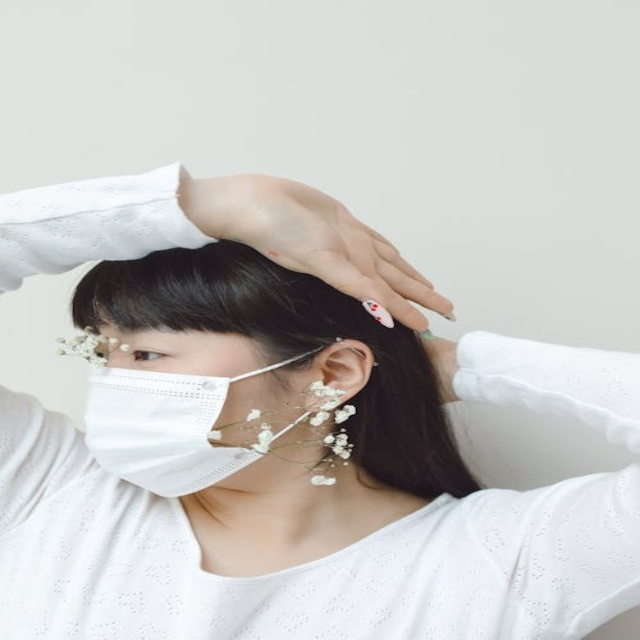Mascara: (84, 346, 327, 497)
Sin_gafas: (123, 330, 244, 373)
Sin_guantes: (184, 171, 456, 331)
